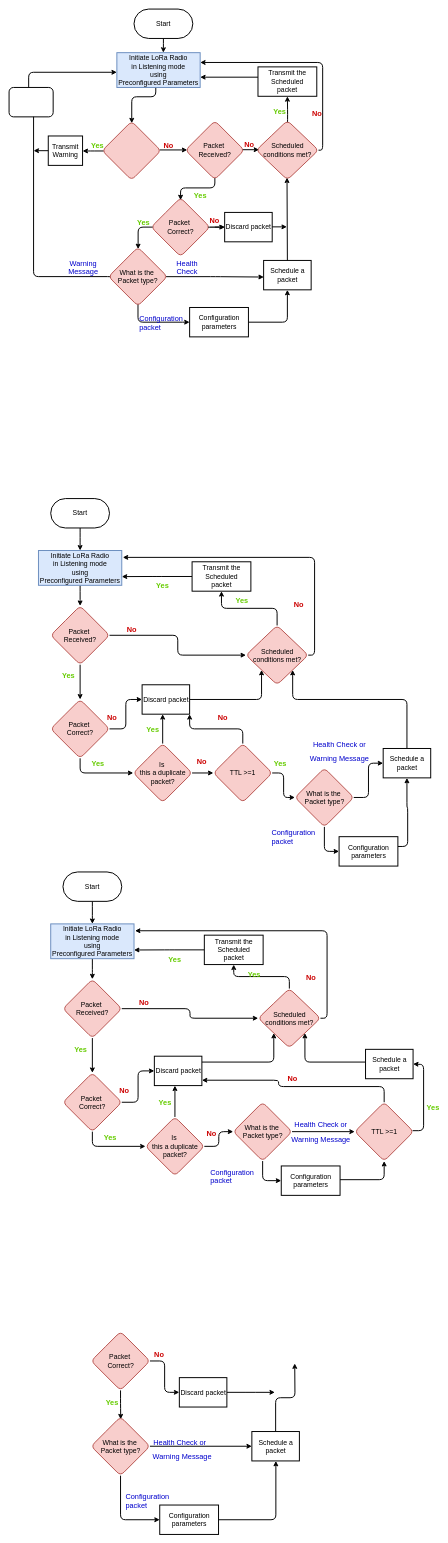
The diagram is 448 pixels wide and 1543 high, and some of its shapes have lost their labels. The centre of each missing label's shape, as x and y in pixels:
Activate local alarms: (x=30, y=102)
Earthquake Detected?: (x=131, y=150)
